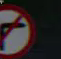Don't turn right: (0, 2, 36, 58)
